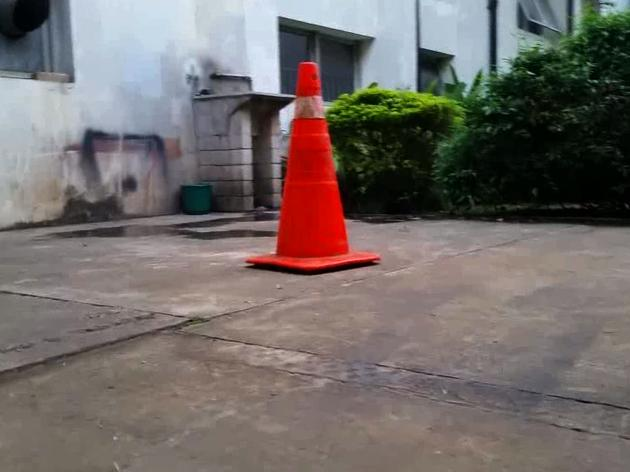0 cone: (245, 61, 379, 272)
